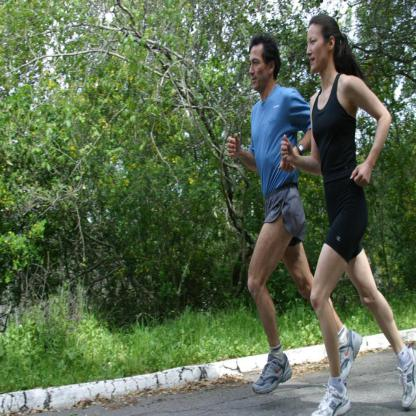face: (307, 25, 329, 72), (250, 48, 270, 92)
